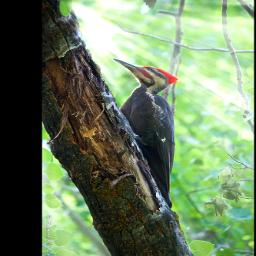Woodpecker: (111, 57, 180, 209)
